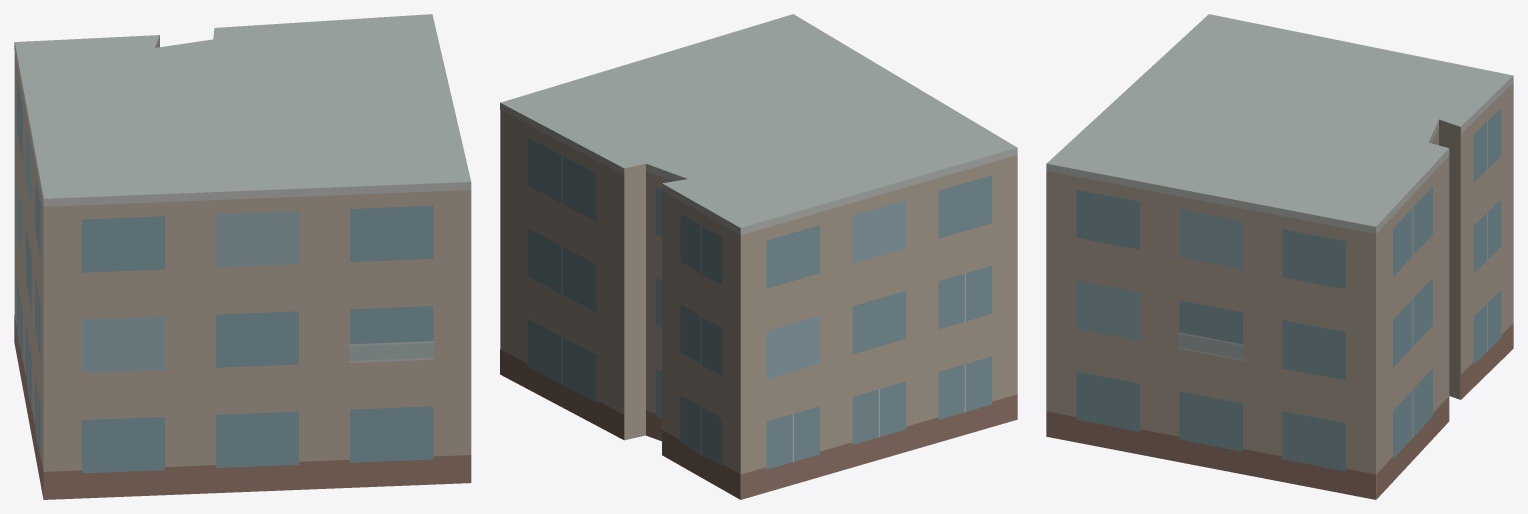
File: survey-upis-32668600.glb
The picture shows the model from 3 angles, left to right: view 1: azimuth 30°, elevation 25°; view 2: azimuth 150°, elevation 25°; view 3: azimuth 270°, elevation 25°; orthographic projection. The views are drawn at different scales.
Visible parts, largest first — view 1: survey-upis-32668600.tmp; view 2: survey-upis-32668600.tmp; view 3: survey-upis-32668600.tmp.
Part boxes in pixels (left/top/right/bottom): survey-upis-32668600.tmp: left=14, top=14, right=471, bottom=499; survey-upis-32668600.tmp: left=500, top=14, right=1017, bottom=499; survey-upis-32668600.tmp: left=1046, top=14, right=1513, bottom=499.
Bounding box in the file's own units: 15.31 × 9.15 × 14.2.
